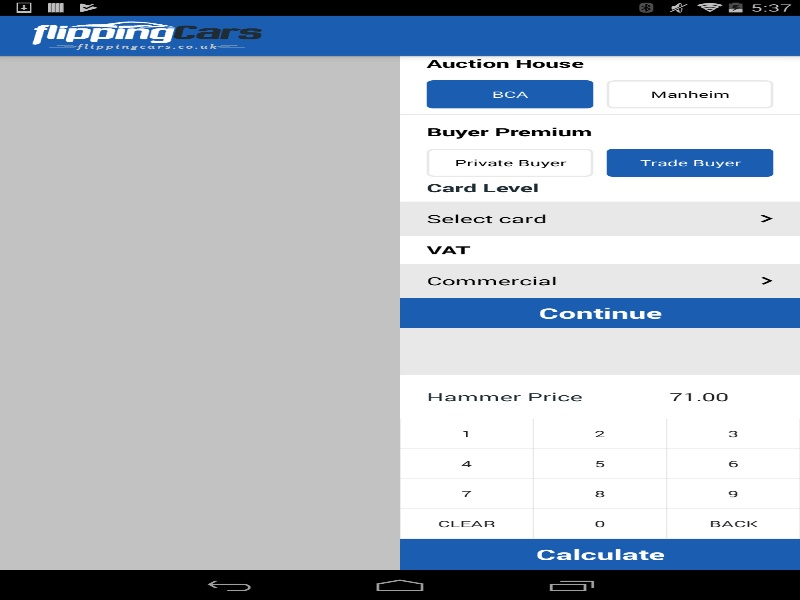Button: (400, 538, 800, 570), (400, 298, 800, 328), (666, 418, 800, 448), (666, 448, 800, 478), (666, 478, 800, 508), (666, 508, 800, 538), (400, 418, 533, 448), (533, 418, 666, 448), (400, 448, 533, 478), (533, 448, 666, 478), (400, 478, 533, 508), (533, 478, 666, 508), (400, 508, 533, 538), (533, 508, 666, 538)
Input: (669, 389, 773, 404)
